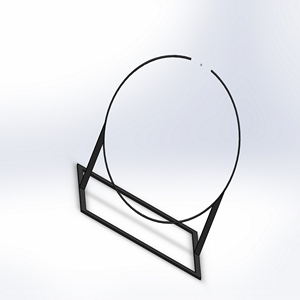circle: (74, 51, 244, 281)
